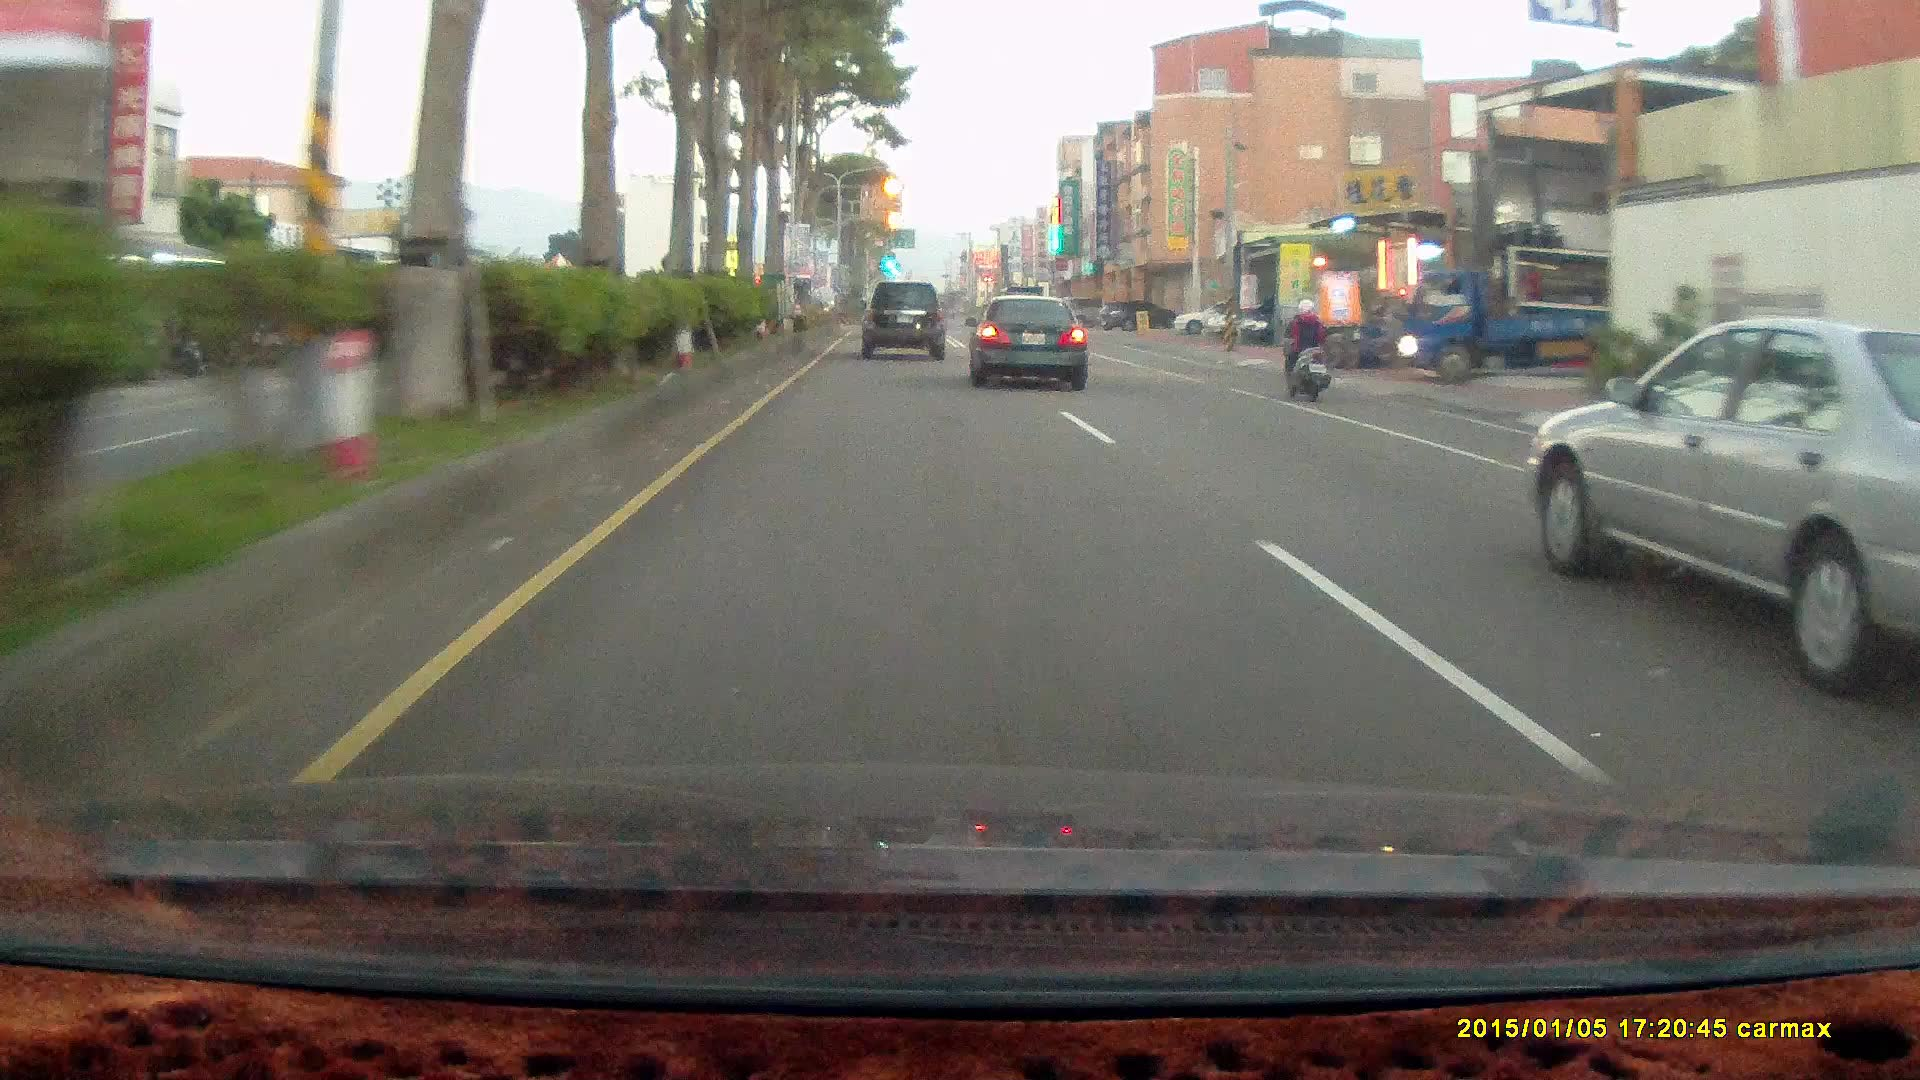rider: (1273, 288, 1343, 410), (1277, 297, 1335, 402)
vehicle: (1527, 318, 1920, 692), (1399, 244, 1614, 384), (1394, 267, 1651, 383), (962, 292, 1087, 390), (973, 295, 1094, 386), (972, 295, 1093, 386), (860, 281, 951, 358), (858, 281, 946, 358), (1242, 299, 1329, 347), (1172, 302, 1255, 336), (1100, 299, 1173, 331)
